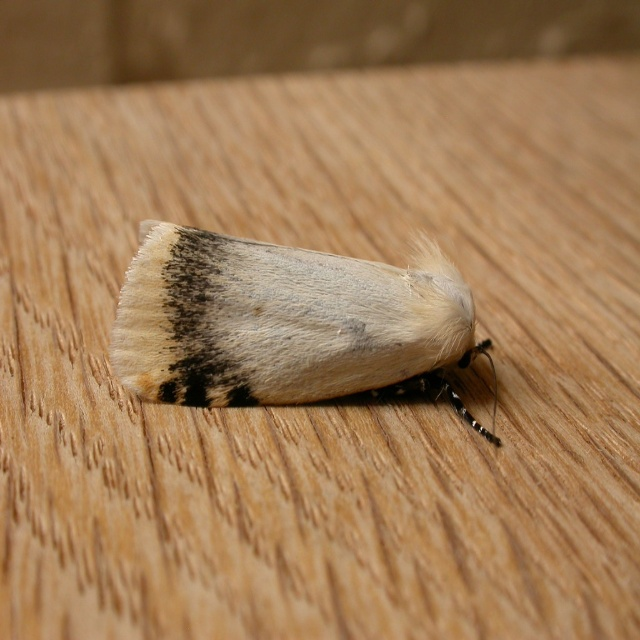Moths and butterflies: (108, 219, 505, 447)
